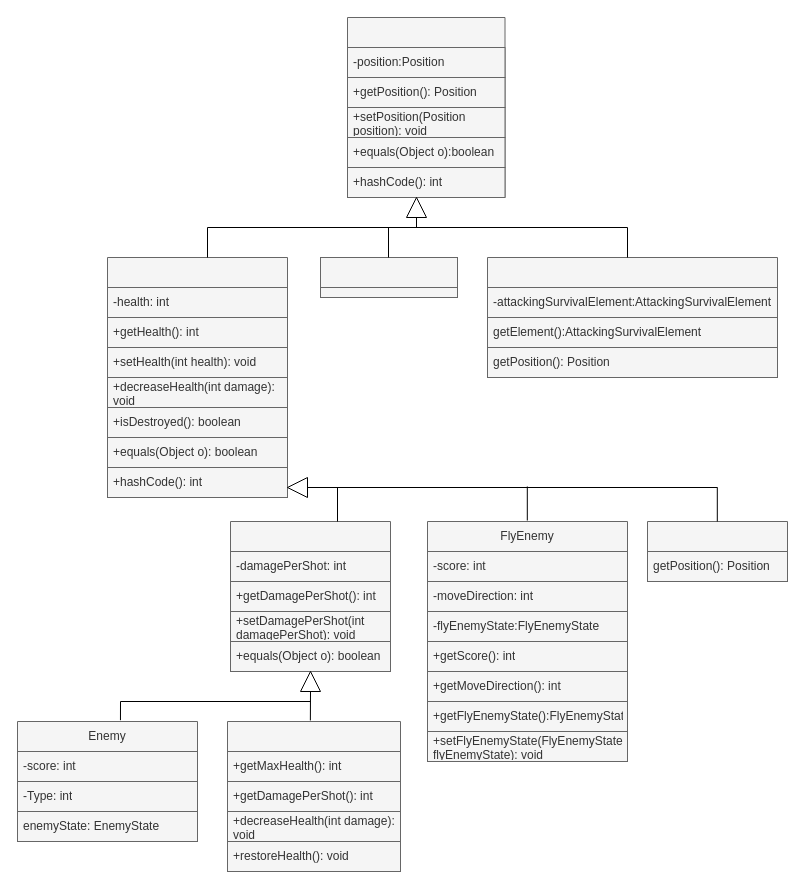
The diagram is 805 pixels wide and 889 high, and some of its shapes have lost their labels. Here are the shapes that lost their labels. From the top down, the box of each, then its label:
(346, 16, 505, 198): Element
(320, 256, 458, 288): Wall
(486, 256, 778, 378): Bullet
(106, 256, 288, 498): SurvivalElement
(646, 520, 788, 582): CoverWall
(230, 520, 390, 672): AttackingSurvivalElement
(226, 720, 400, 872): Hero
